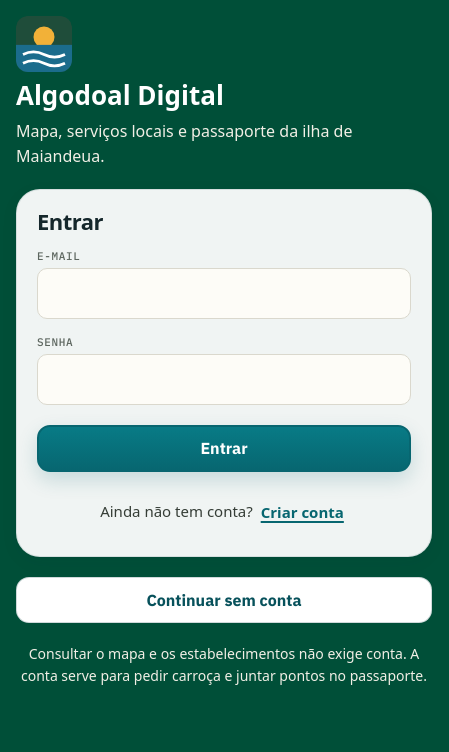
Scenario: formulário de acesso › mostra a mensagem da API quando a senha não confere
In the field labelled "E-mail": (224, 293) [37,268,411,319], type "ninguem@example.com"
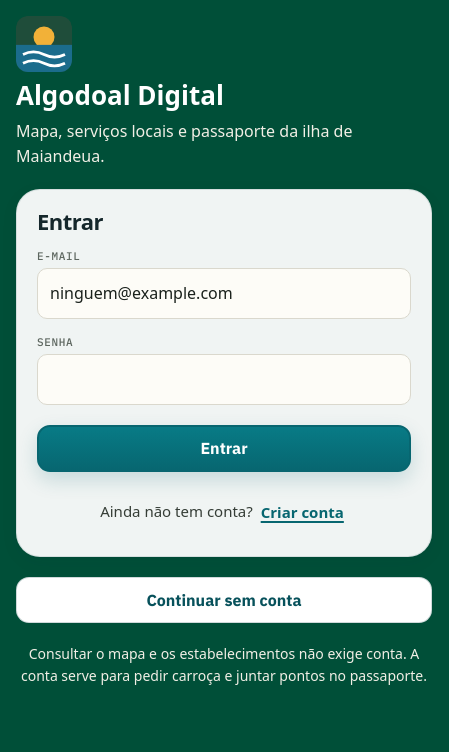
In the password field labelled "Senha": (224, 380) [37,354,411,405], type "qualquer-coisa"
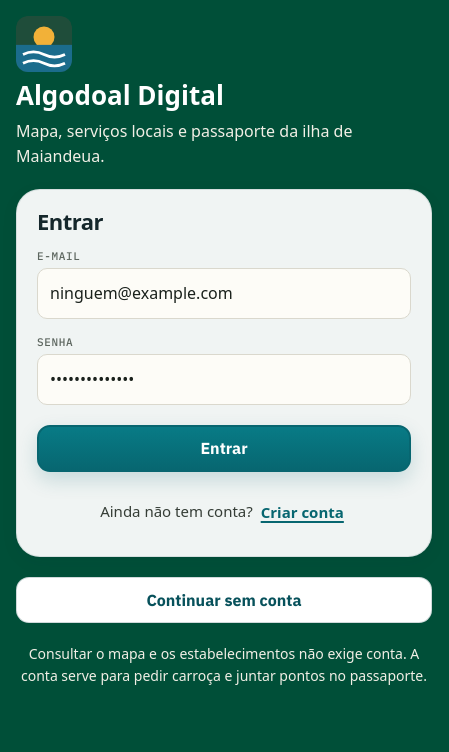
Click the button "Entrar": (224, 449) [37,425,411,472]
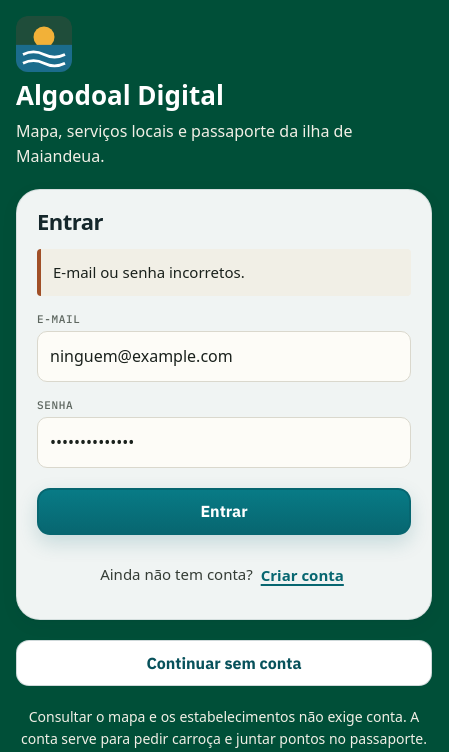
Expected: the message reads "E-mail ou senha incorretos.", [53,262,245,282]
